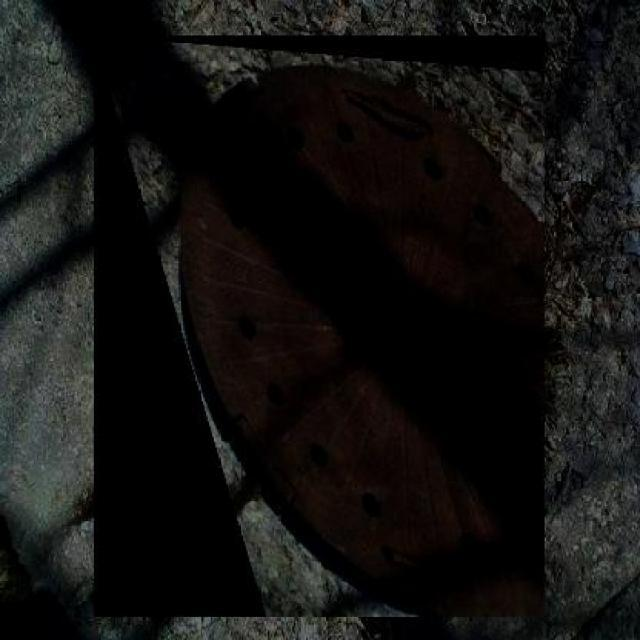Manhole: (93, 35, 544, 618)
